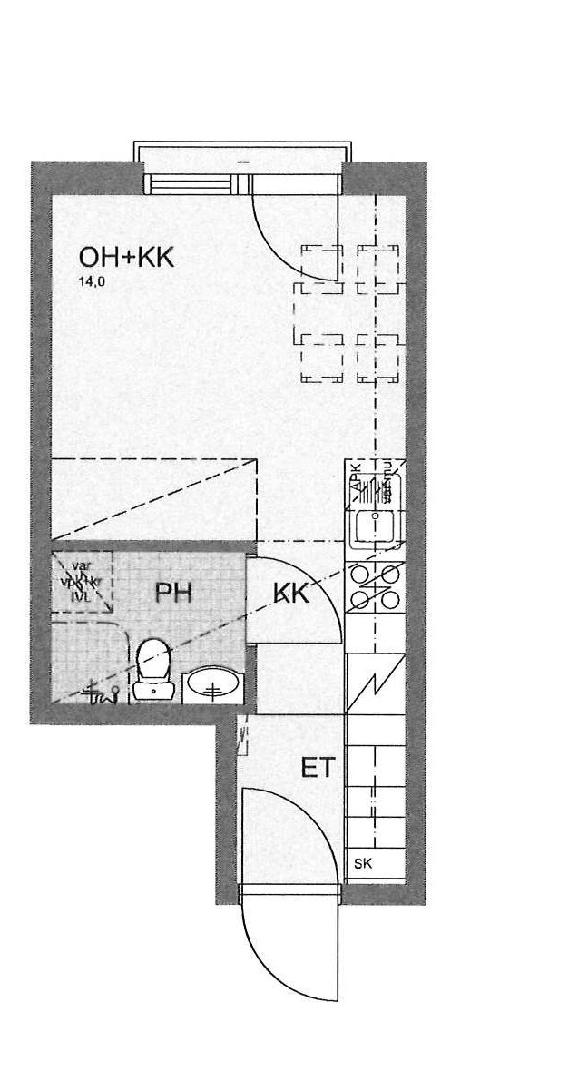door: (239, 785, 357, 1016), (247, 168, 354, 290), (240, 556, 342, 657)
window: (139, 170, 242, 195)
zone: (49, 189, 395, 543), (49, 552, 246, 704), (239, 714, 400, 884), (253, 545, 404, 713)
